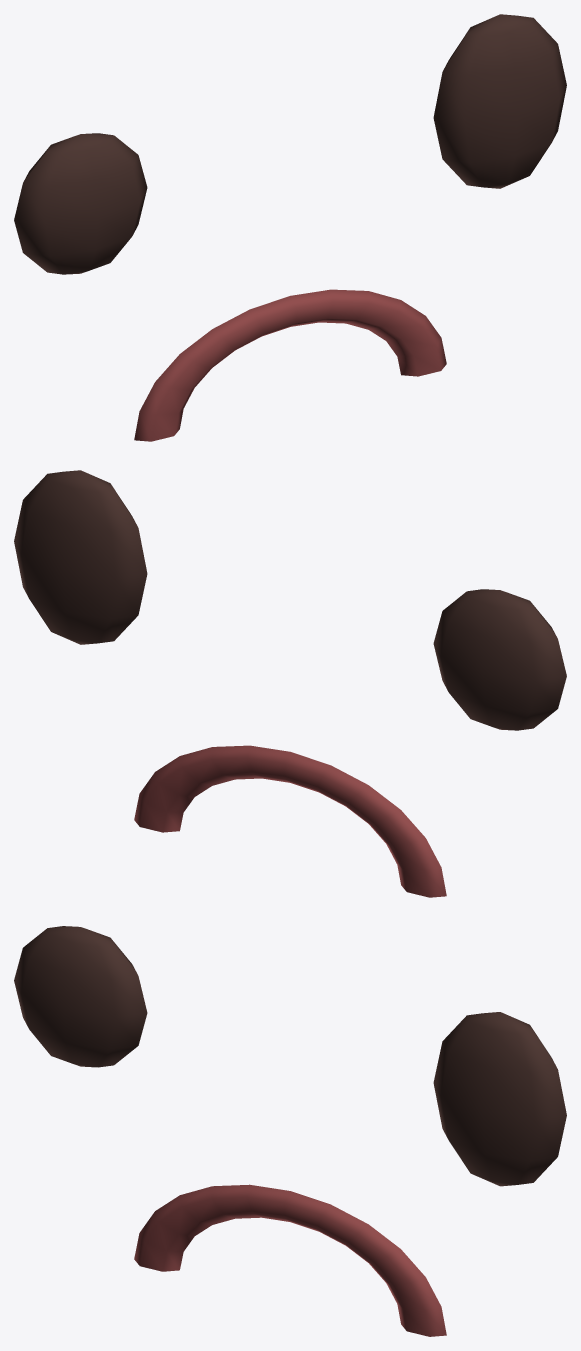
File: smile_face.glb
3 views of the same model, one above another, from view 1: azimuth 30°, elevation 25°; view 2: azimuth 150°, elevation 25°; view 3: azimuth 330°, elevation 25° (orthographic).
Visible parts, largest first — view 1: eye_r, eye_l, mouth; view 2: eye_r, eye_l, mouth; view 3: eye_r, eye_l, mouth.
Boxes of the visible parts, x1,y1,x2,y2 form: eye_r: [433, 14, 566, 188]; eye_l: [14, 133, 147, 274]; mouth: [134, 289, 446, 441]; eye_r: [14, 470, 147, 644]; eye_l: [433, 589, 566, 730]; mouth: [134, 745, 446, 897]; eye_r: [433, 1012, 566, 1186]; eye_l: [14, 926, 147, 1067]; mouth: [134, 1184, 446, 1336].
Size of the model in its own units: 0.29 by 0.1688 by 0.0315.
